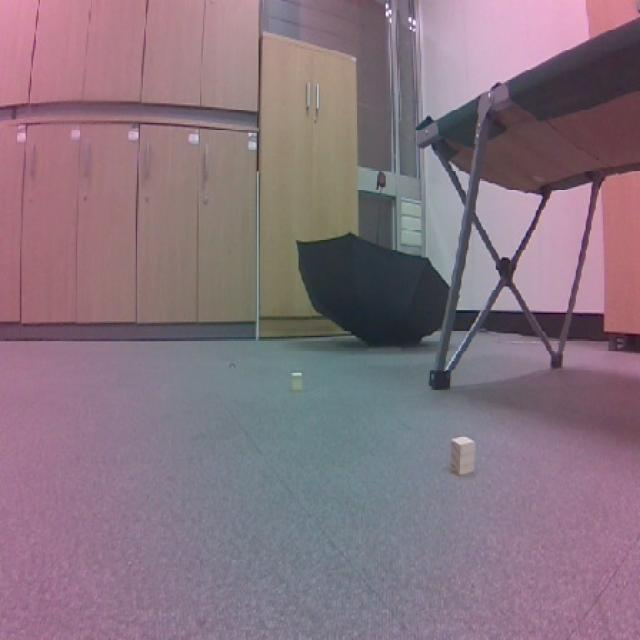obstacle: (446, 428, 482, 486)
